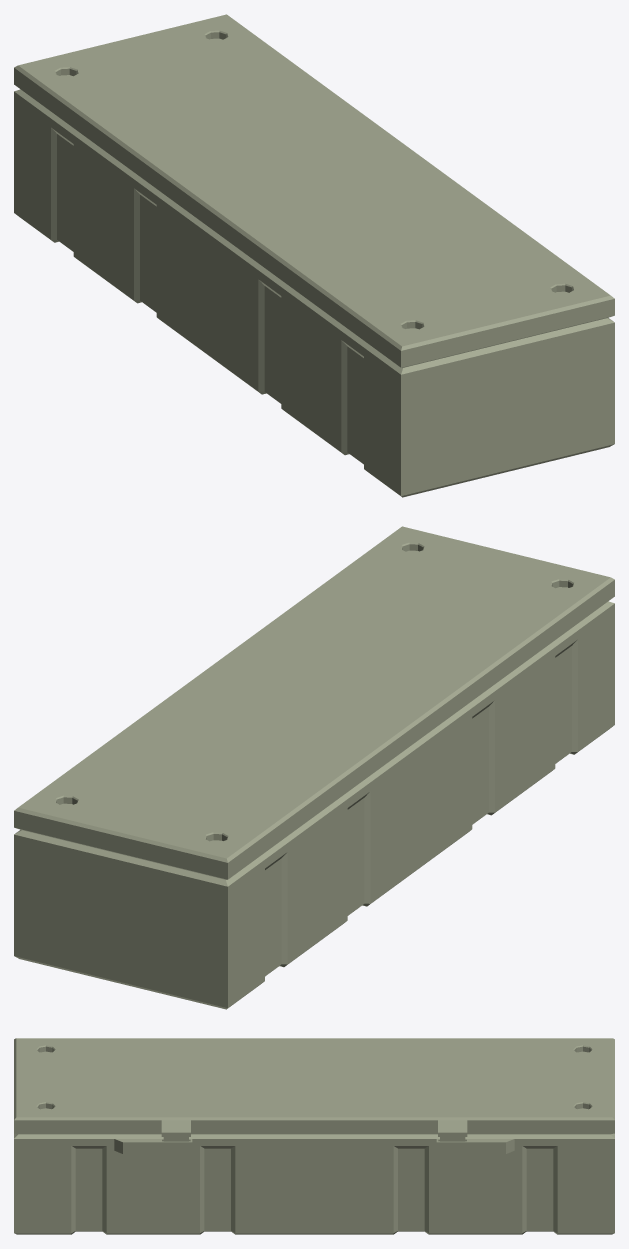
File: ArsenalStuff.dae
3 renders of one model, top to bottom at view 1: azimuth 30°, elevation 25°; view 2: azimuth 150°, elevation 25°; view 3: azimuth 270°, elevation 25°, orthographic. The views are drawn at different scales.
Visible parts, largest first — view 1: AmmunitionCrate1; view 2: AmmunitionCrate1; view 3: AmmunitionCrate1.
Part boxes in pixels (box(x1,y1,x2,y2)): AmmunitionCrate1: box(14, 14, 614, 497); AmmunitionCrate1: box(14, 526, 614, 1009); AmmunitionCrate1: box(14, 1038, 614, 1234).
Size of the model in its own units: 1.5 by 4.5 by 0.9723.
